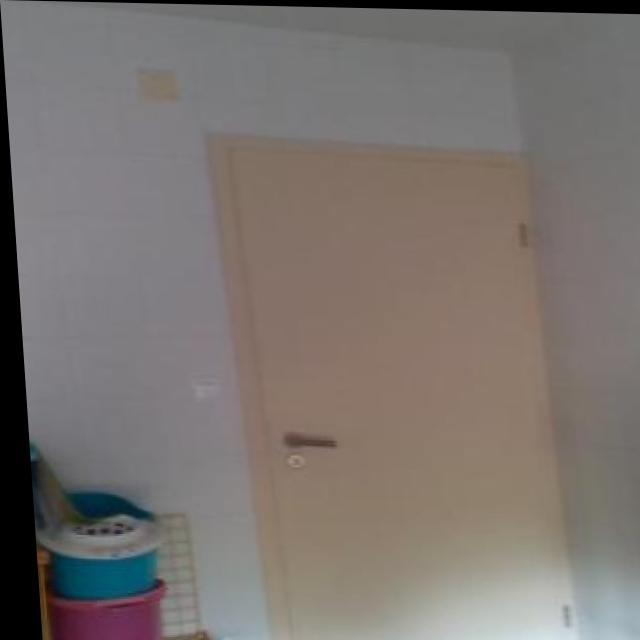door_handle: (275, 424, 342, 460)
